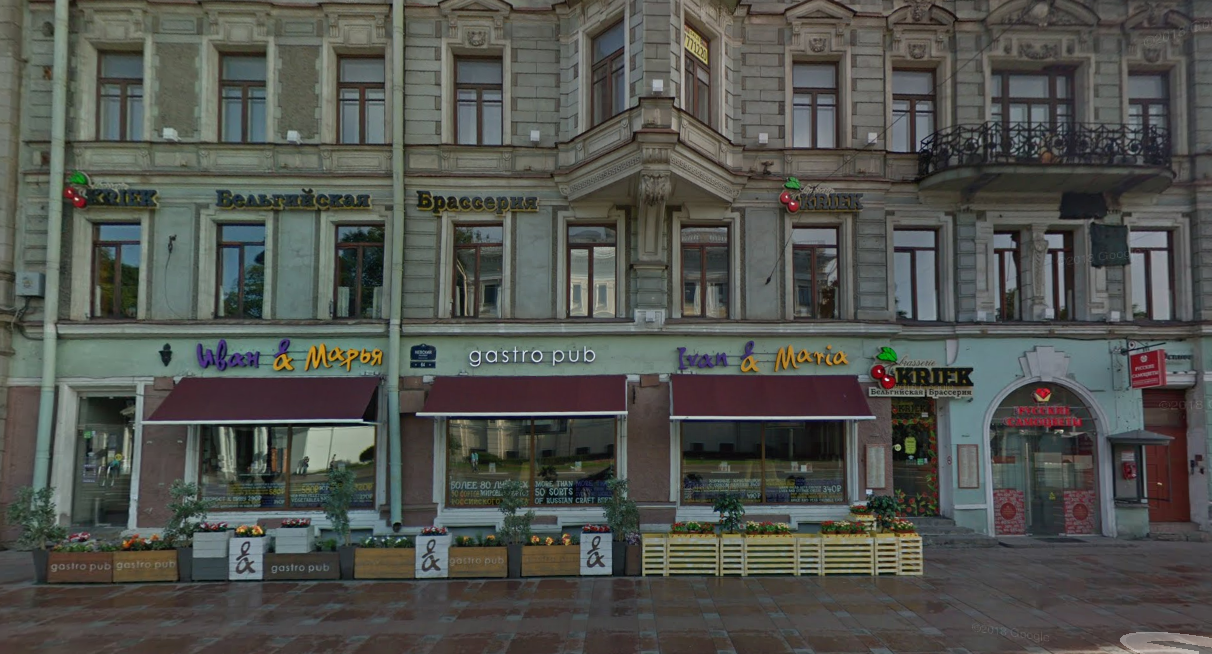cantilever: (1116, 336, 1170, 396)
signboard: (186, 334, 382, 377), (861, 345, 976, 411), (669, 336, 846, 377), (219, 179, 371, 215), (420, 183, 546, 216), (66, 174, 161, 216), (773, 176, 864, 218), (461, 343, 602, 363)
window: (450, 416, 615, 512), (997, 381, 1099, 530), (193, 428, 374, 508), (683, 423, 852, 502), (328, 220, 386, 315), (994, 70, 1079, 133), (217, 220, 269, 322), (563, 224, 616, 323), (675, 226, 731, 319), (89, 224, 142, 321), (216, 50, 271, 141), (451, 220, 501, 319), (331, 52, 385, 140), (97, 51, 146, 141), (797, 223, 842, 318), (890, 230, 936, 322), (1133, 229, 1175, 324), (456, 55, 501, 142), (794, 65, 840, 146), (892, 73, 936, 152), (992, 233, 1019, 321), (1126, 71, 1161, 135), (1052, 234, 1074, 319)
